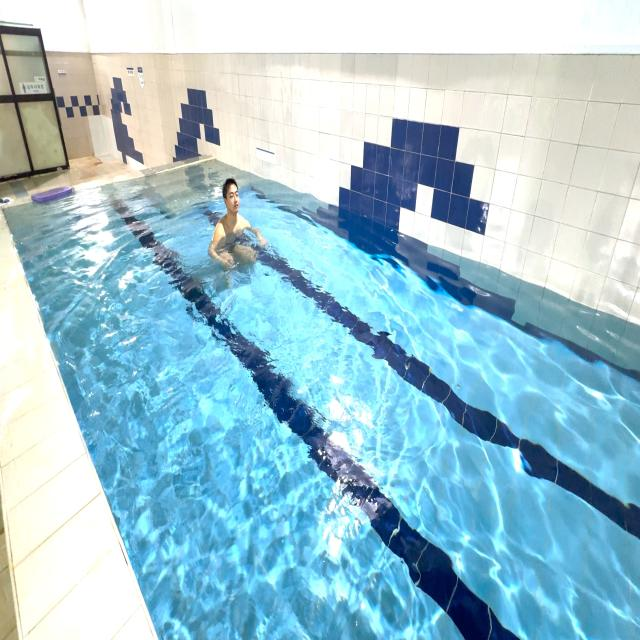Swimming: (205, 166, 269, 284)
